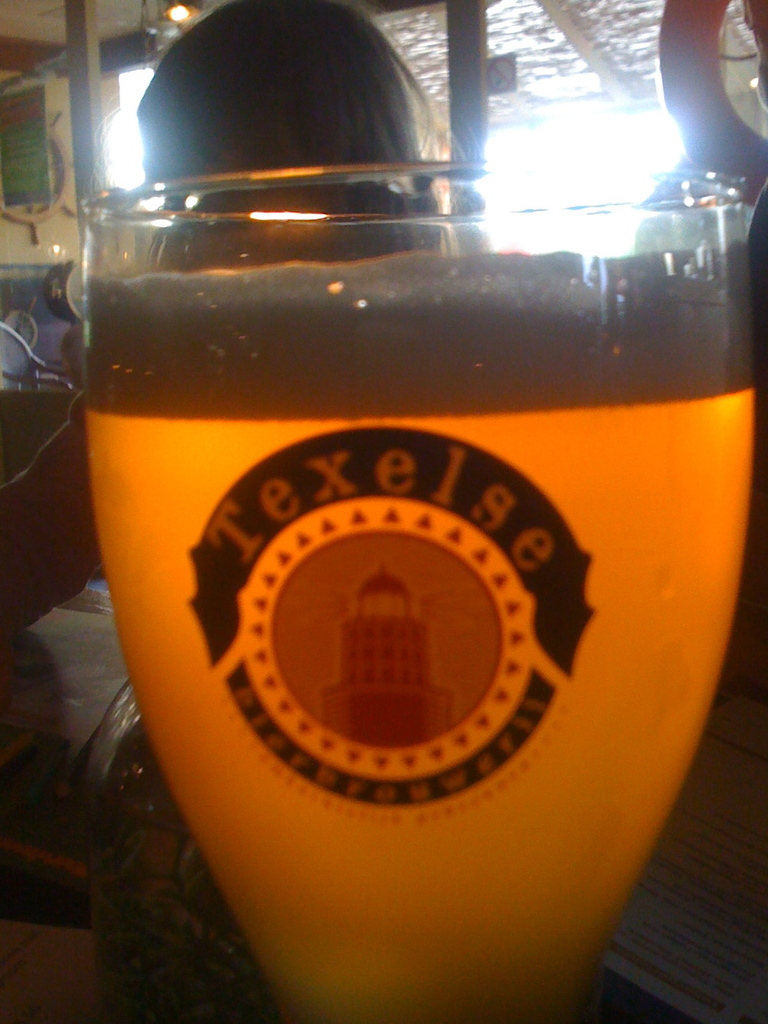Beer: (91, 260, 760, 1011)
